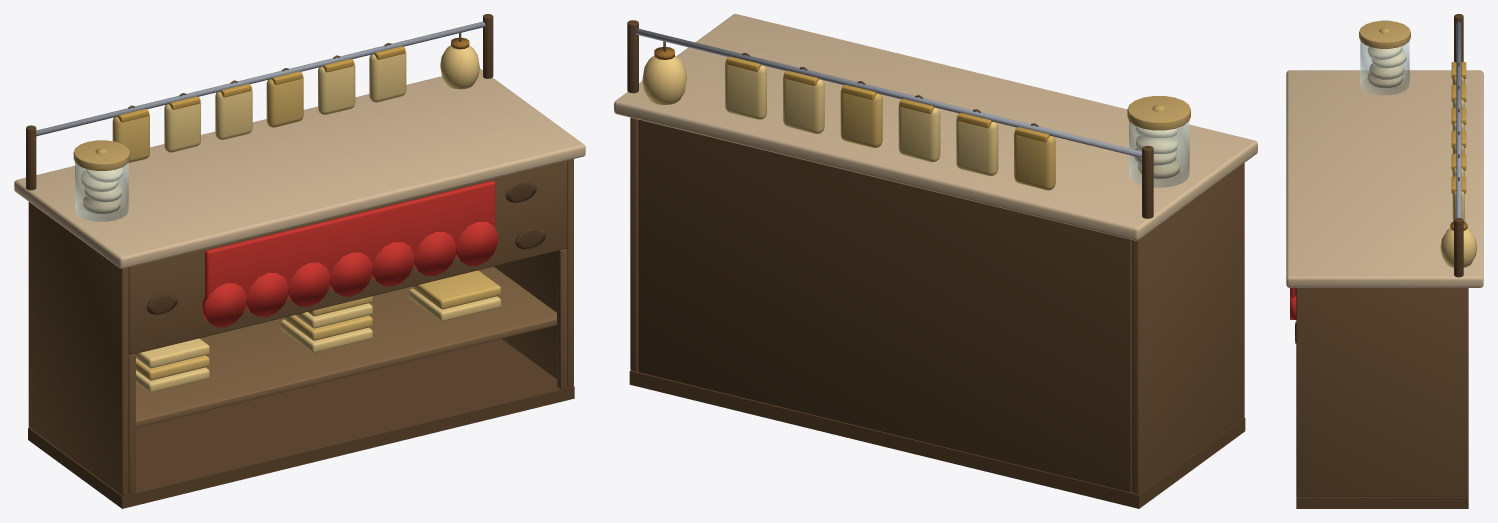
Rendered from trumua-banh-trang-stall.glb.
3 renders of one model, left to right at view 1: azimuth 30°, elevation 25°; view 2: azimuth 150°, elevation 25°; view 3: azimuth 270°, elevation 25°, orthographic. The views are drawn at different scales.
Parts seen in each view (by area): view 1: trumua-banh-trang-stall; view 2: trumua-banh-trang-stall; view 3: trumua-banh-trang-stall.
Boxes of the visible parts, left/top/right/bottom form: trumua-banh-trang-stall: left=14, top=14, right=585, bottom=508; trumua-banh-trang-stall: left=614, top=14, right=1257, bottom=508; trumua-banh-trang-stall: left=1286, top=14, right=1483, bottom=508.
Bounding box in the file's own units: 2 × 1.3 × 0.8.
2 materials, 1 textured.
